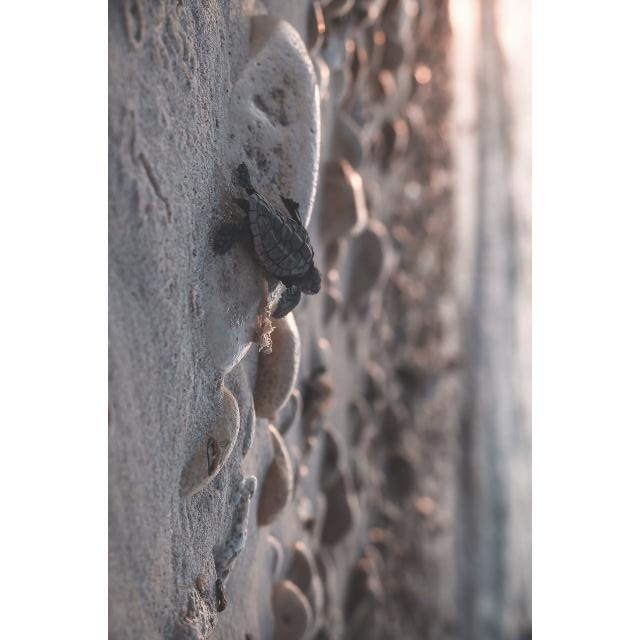turtle: (212, 160, 324, 321)
